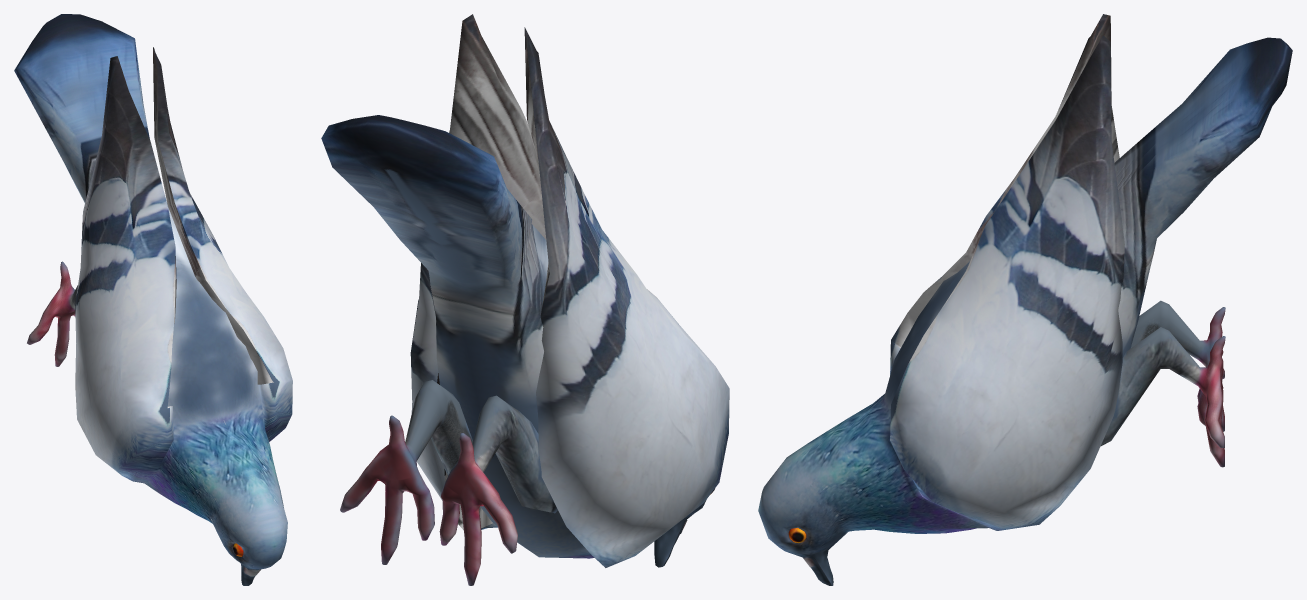
Rendered from pigeon.gltf.
The picture shows the model from 3 angles, left to right: view 1: azimuth 30°, elevation 25°; view 2: azimuth 150°, elevation 25°; view 3: azimuth 270°, elevation 25°; orthographic projection. The views are drawn at different scales.
Visible parts, largest first — view 1: Buffer_Layer; view 2: Buffer_Layer; view 3: Buffer_Layer.
Boxes of the visible parts, <box> form: Buffer_Layer: <box>14,14,292,585</box>; Buffer_Layer: <box>321,14,729,585</box>; Buffer_Layer: <box>758,14,1292,585</box>.
Size of the model in its own units: 40.71 by 100 by 86.38.
